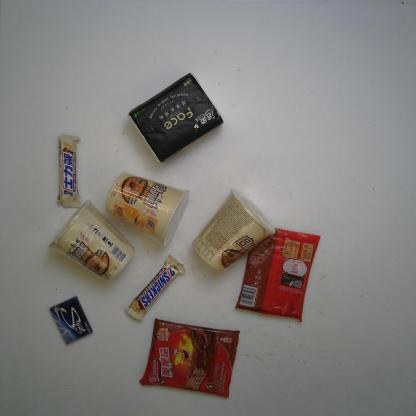Chocolate: (124, 254, 186, 322), (56, 134, 82, 209)
Dessert: (233, 226, 320, 323), (138, 318, 240, 398)
Gum: (48, 294, 94, 346)
Instant Noodles: (47, 199, 136, 283), (191, 189, 275, 273), (104, 171, 191, 249)
Tissue: (126, 72, 224, 162)
